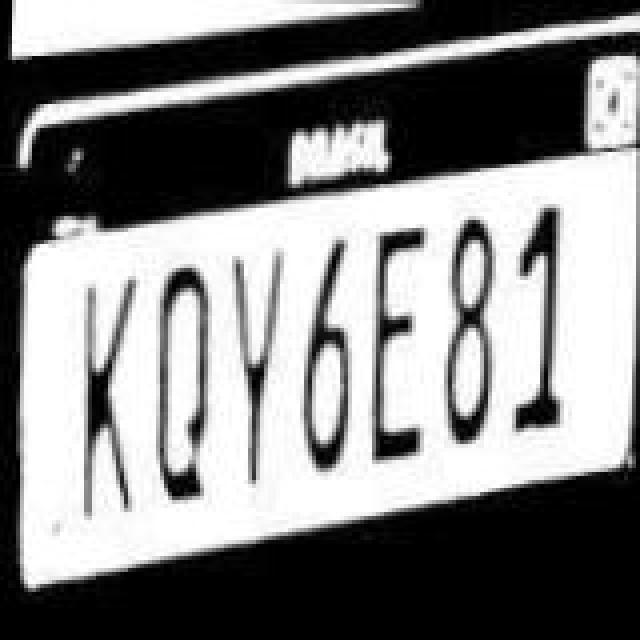1: (502, 192, 574, 456)
6: (292, 230, 356, 486)
8: (436, 210, 504, 470)
E: (362, 216, 430, 480)
K: (74, 260, 142, 524)
Q: (146, 256, 214, 516)
Y: (214, 240, 290, 488)
